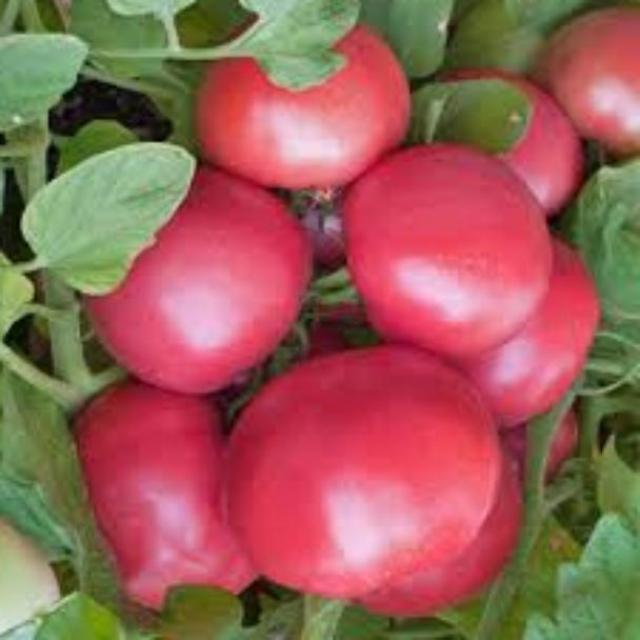Tomato: (211, 352, 538, 626), (61, 160, 314, 411), (328, 140, 564, 378), (61, 374, 267, 626), (187, 29, 416, 207), (406, 62, 614, 245), (424, 249, 603, 446), (537, 4, 640, 172)
